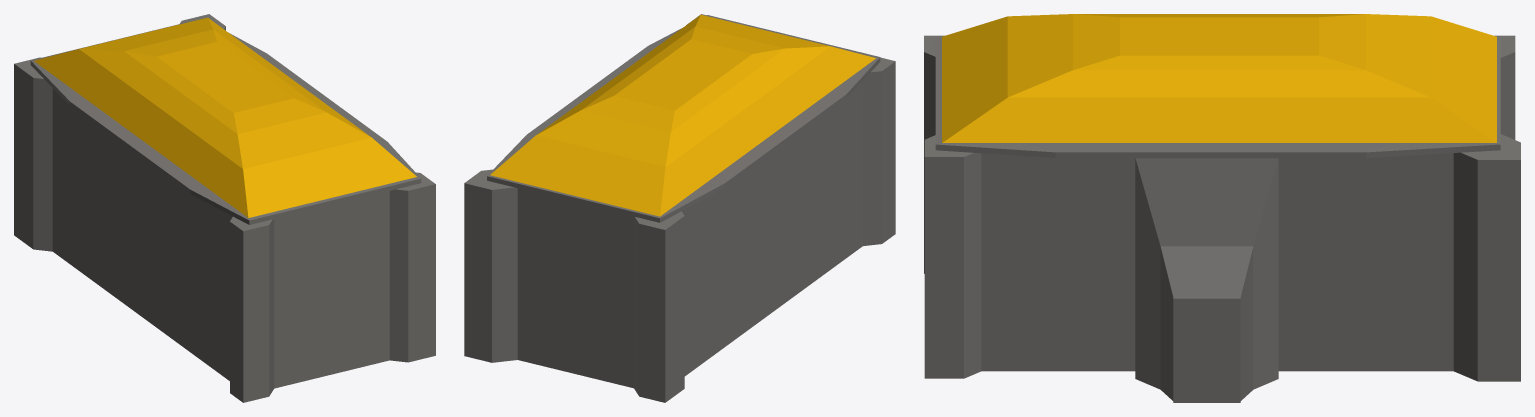
The model's file is house4.fbx.
The picture shows the model from 3 angles, left to right: view 1: azimuth 30°, elevation 25°; view 2: azimuth 150°, elevation 25°; view 3: azimuth 270°, elevation 25°; orthographic projection. The views are drawn at different scales.
Parts seen in each view (by area): view 1: Cube; view 2: Cube; view 3: Cube.
Boxes of the visible parts, box(x1,y1,x2,y2) form: Cube: box(14, 14, 435, 402); Cube: box(464, 14, 895, 402); Cube: box(924, 14, 1520, 402).
Bounding box in the file's own units: 23822 × 22253 × 42115.
